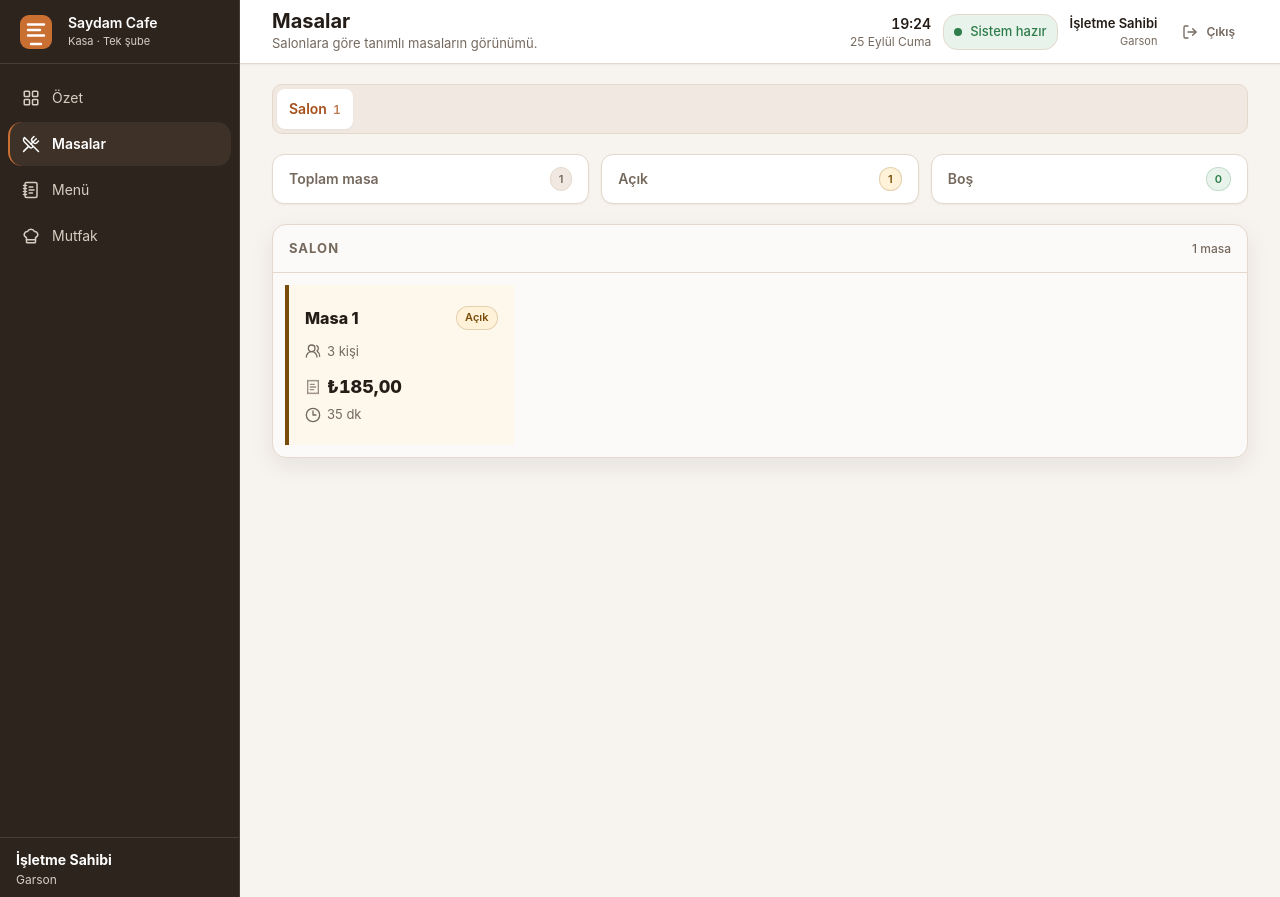
Scenario: Masa ve adisyon ekranı › garson adisyonunda yetkisiz cari sorgusu çalıştırmaz
Click the button "Masa 1 Açık 3 kişi ₺185,00 35 dk" at [399, 365], box [285, 285, 514, 445]
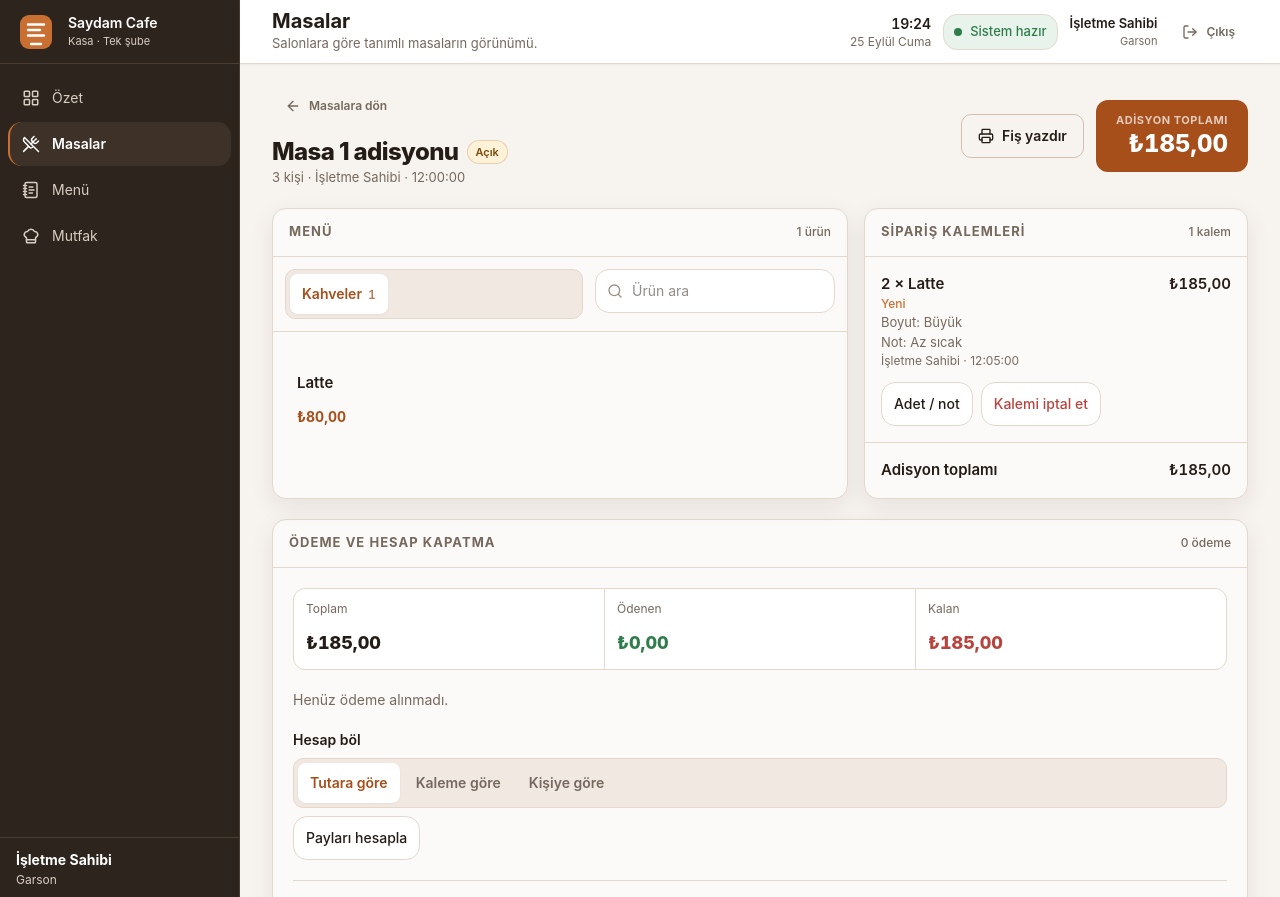
Expected: the heading "Masa 1 adisyonu" is shown, [272, 136, 458, 168]
